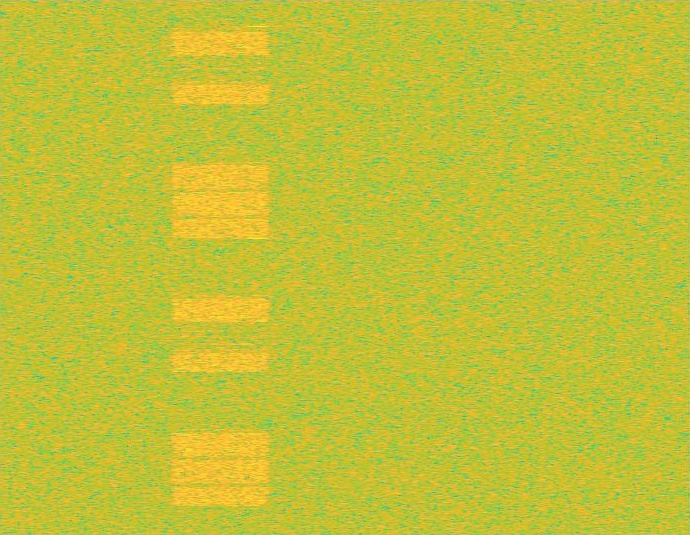LTE: (169, 0, 272, 534)
Radar: (251, 0, 264, 534)
